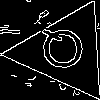Q: (39, 26, 86, 78)
